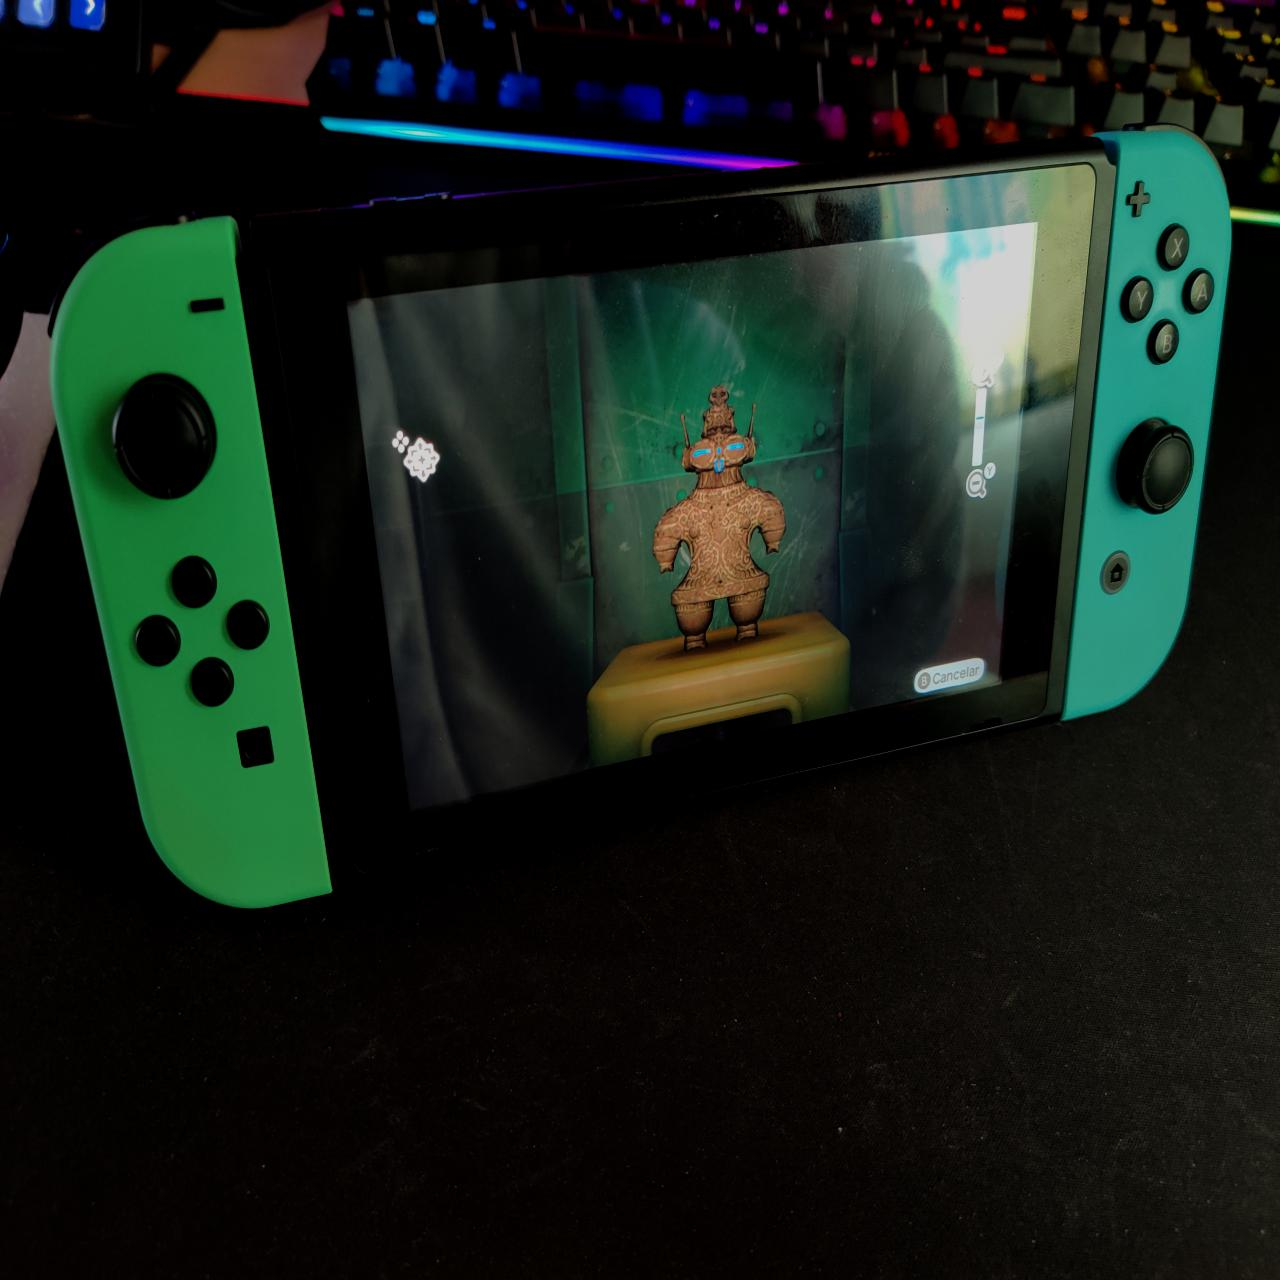DoguuFake: (651, 379, 790, 661)
